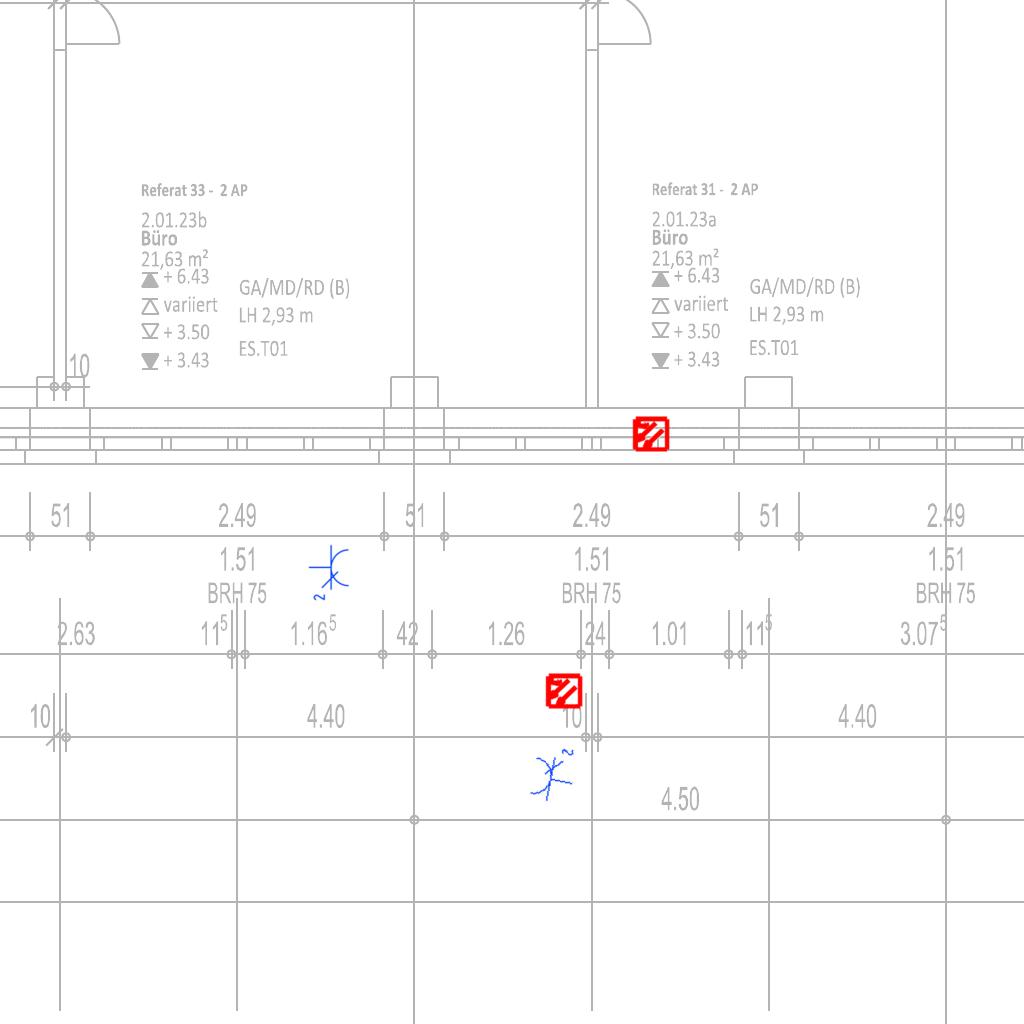OT_Multisensormelder_(Kombination_RMO_WMD): (535, 663, 591, 719), (622, 406, 678, 462)
Schukosteckdose_mehrfach: (525, 739, 581, 807), (308, 544, 352, 604)
